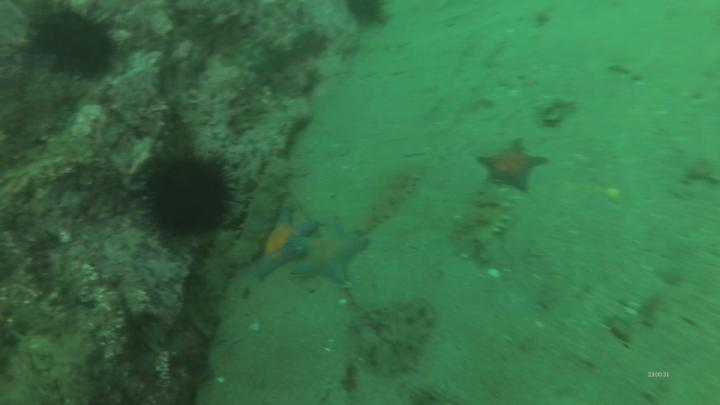echinus: (147, 163, 229, 236), (40, 17, 113, 76), (348, 2, 386, 25)
holothurian: (235, 160, 291, 271), (373, 169, 419, 228), (464, 202, 512, 250), (201, 233, 231, 295)
starfish: (296, 218, 368, 283), (258, 210, 317, 277), (476, 142, 547, 193)
